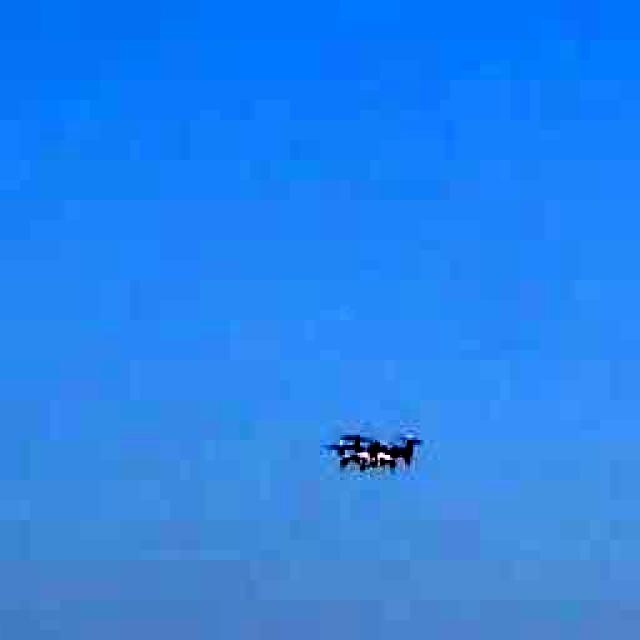bird: (321, 411, 431, 486)
